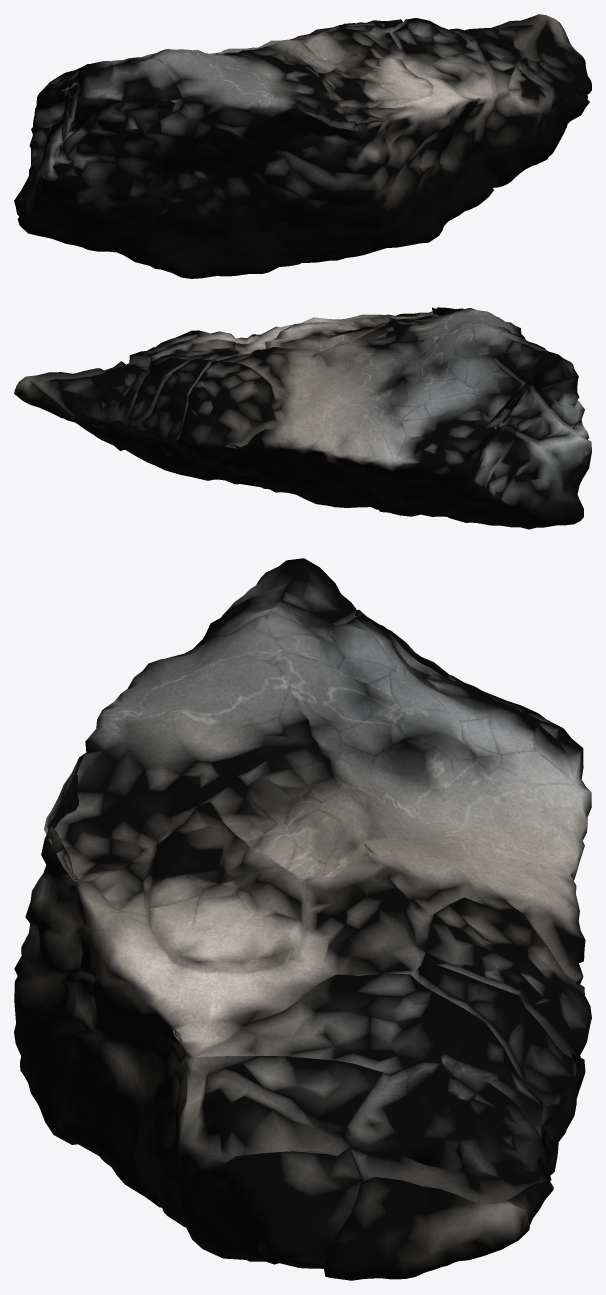
Rendered from boulder_a.opt.glb.
The picture shows the model from 3 angles, top to bottom: view 1: azimuth 30°, elevation 25°; view 2: azimuth 150°, elevation 25°; view 3: azimuth 270°, elevation 25°; orthographic projection. The views are drawn at different scales.
Parts seen in each view (by area): view 1: boulder_a; view 2: boulder_a; view 3: boulder_a.
Boxes of the visible parts, box(x1,y1,x2,y2) form: boulder_a: box(14, 14, 591, 278); boulder_a: box(14, 307, 591, 529); boulder_a: box(14, 558, 591, 1280).
Bounding box in the file's own units: 2.53 × 0.8698 × 1.23.
1 material, 1 textured.
